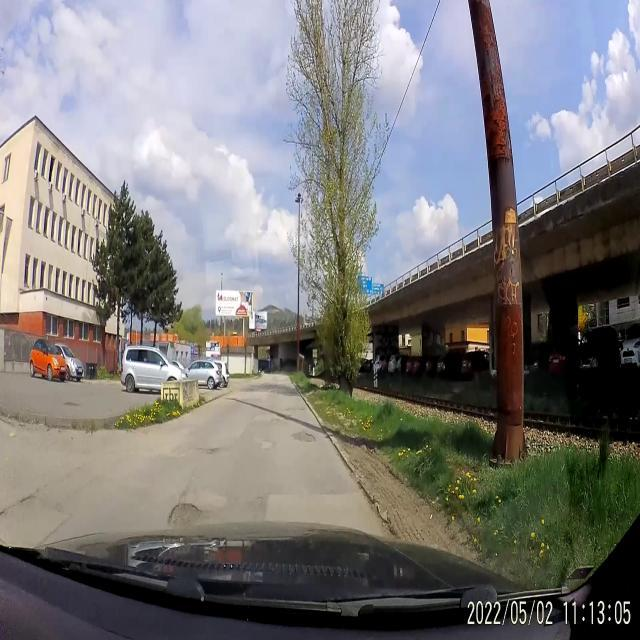Pothole: (2, 482, 43, 534), (167, 492, 207, 528), (200, 439, 226, 464), (289, 424, 318, 446), (258, 436, 276, 450), (278, 409, 292, 422)
